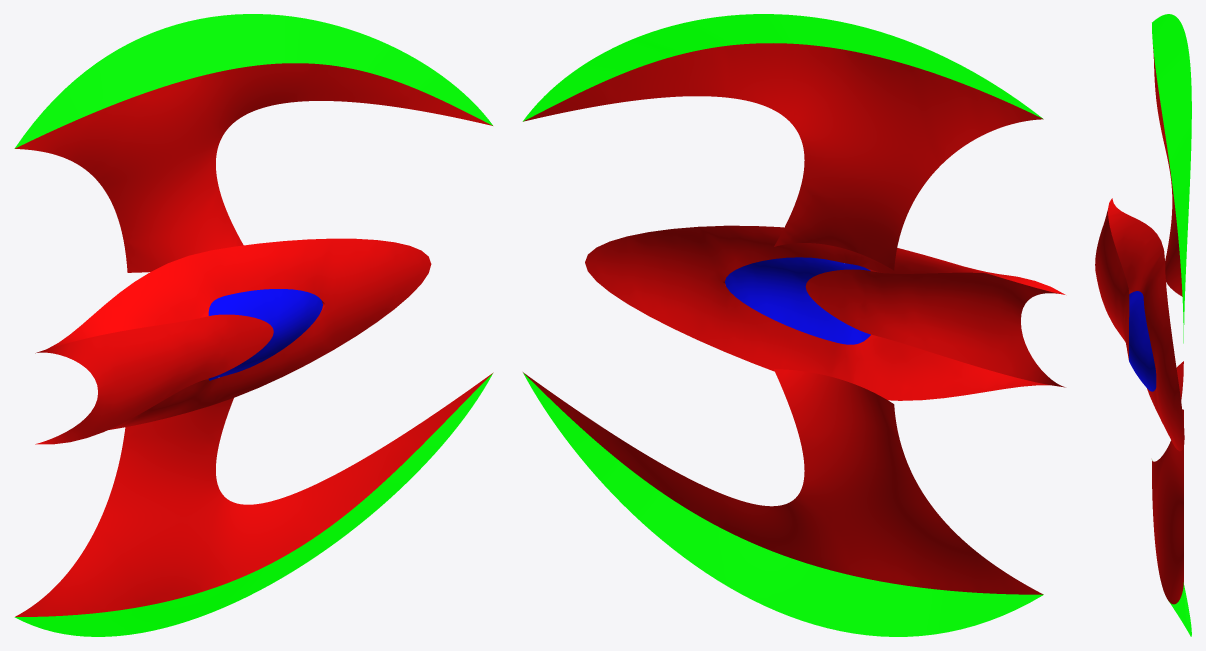
The model's file is glider6.glb.
3 views of the same model, side by side, from view 1: azimuth 30°, elevation 25°; view 2: azimuth 150°, elevation 25°; view 3: azimuth 270°, elevation 25° (orthographic). The views are drawn at different scales.
Parts seen in each view (by area): view 1: path855.003, path839.002, BezierCurve.021, BezierCurve.016, BezierCurve.010; view 2: path855.003, path839.002, BezierCurve.021, BezierCurve.016, BezierCurve.010; view 3: BezierCurve.021, path839.002, path855.003, BezierCurve.016, BezierCurve.010.
Boxes of the visible parts, x1=… form: path855.003: x1=15, y1=63, x2=493, y2=616; path839.002: x1=14, y1=14, x2=492, y2=636; BezierCurve.021: x1=43, y1=238, x2=431, y2=429; BezierCurve.016: x1=35, y1=314, x2=273, y2=444; BezierCurve.010: x1=208, y1=289, x2=322, y2=380; path855.003: x1=523, y1=43, x2=1043, y2=594; path839.002: x1=522, y1=14, x2=1043, y2=636; BezierCurve.021: x1=585, y1=225, x2=1065, y2=400; BezierCurve.016: x1=805, y1=269, x2=1065, y2=387; BezierCurve.010: x1=725, y1=257, x2=870, y2=344; BezierCurve.021: x1=1108, y1=198, x2=1184, y2=451; path839.002: x1=1152, y1=14, x2=1191, y2=636; path855.003: x1=1152, y1=47, x2=1183, y2=604; BezierCurve.016: x1=1095, y1=210, x2=1129, y2=359; BezierCurve.010: x1=1129, y1=291, x2=1156, y2=391.
Size of the model in its own units: 1.67 by 1.92 by 0.302.
